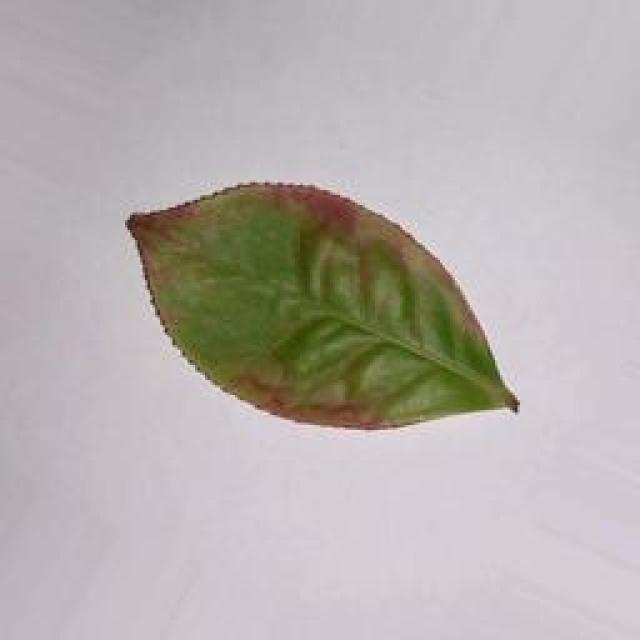Red Leaf Spot: (122, 167, 560, 451)
